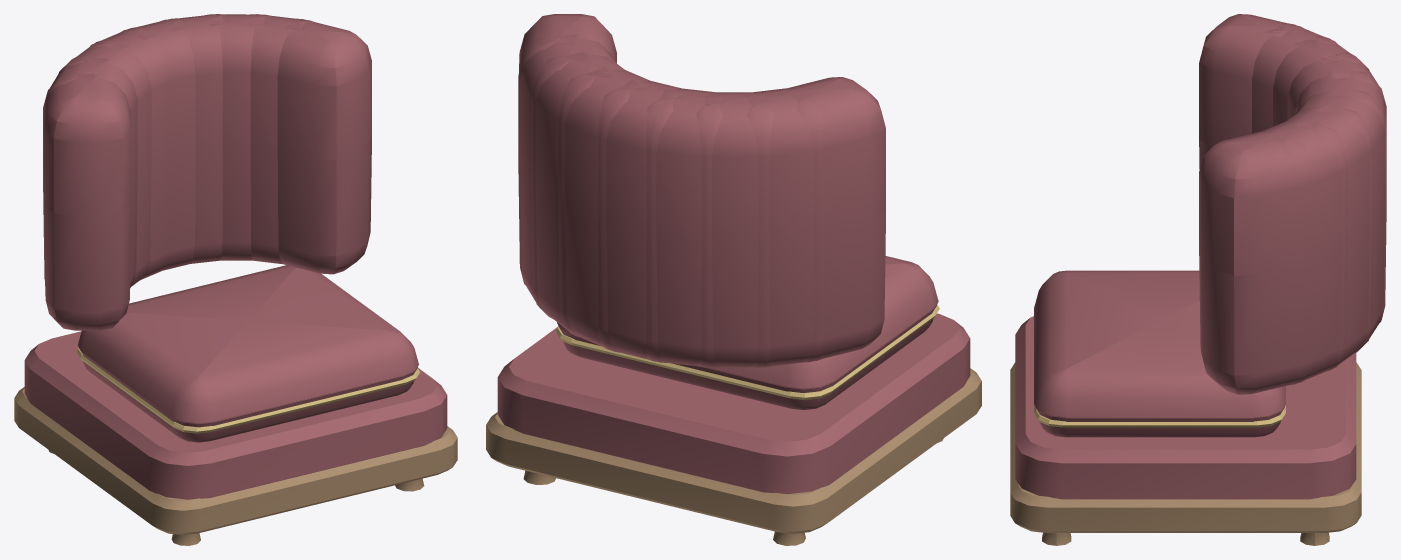
Rendered from bar-pub-and-brewery-taproom-tub-armchair-12aed6e5__18390.glb.
3 views of the same model, side by side, from view 1: azimuth 30°, elevation 25°; view 2: azimuth 150°, elevation 25°; view 3: azimuth 270°, elevation 25° (orthographic). The views are drawn at different scales.
Parts seen in each view (by area): view 1: tub-armchair; view 2: tub-armchair; view 3: tub-armchair.
Part boxes in pixels (bbox=[...]): tub-armchair: bbox=[14, 14, 457, 545]; tub-armchair: bbox=[486, 14, 981, 545]; tub-armchair: bbox=[1010, 14, 1386, 545].
Size of the model in its own units: 0.7423 by 0.852 by 0.7289.
